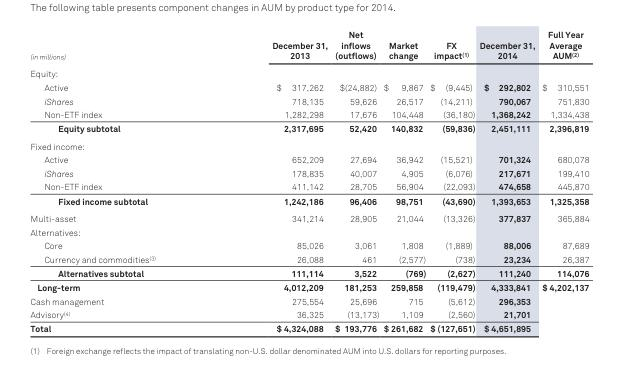table: (29, 28, 588, 333)
table column: (29, 28, 213, 333), (213, 28, 330, 333), (476, 28, 537, 333), (537, 28, 588, 333), (330, 28, 380, 333), (427, 28, 476, 333), (380, 28, 427, 333)
table column header: (29, 28, 588, 64)
table projected row header: (29, 64, 588, 80), (29, 137, 588, 152), (29, 225, 588, 238)
table row: (29, 28, 588, 64), (29, 64, 588, 80), (29, 121, 588, 137), (29, 193, 588, 209), (29, 209, 588, 225), (29, 137, 588, 152), (29, 93, 588, 107), (29, 107, 588, 121), (29, 152, 588, 166), (29, 179, 588, 193), (29, 238, 588, 252), (29, 265, 588, 279), (29, 279, 588, 293), (29, 293, 588, 307), (29, 307, 588, 321), (29, 80, 588, 93), (29, 166, 588, 179), (29, 225, 588, 238), (29, 252, 588, 265), (29, 321, 588, 333)
